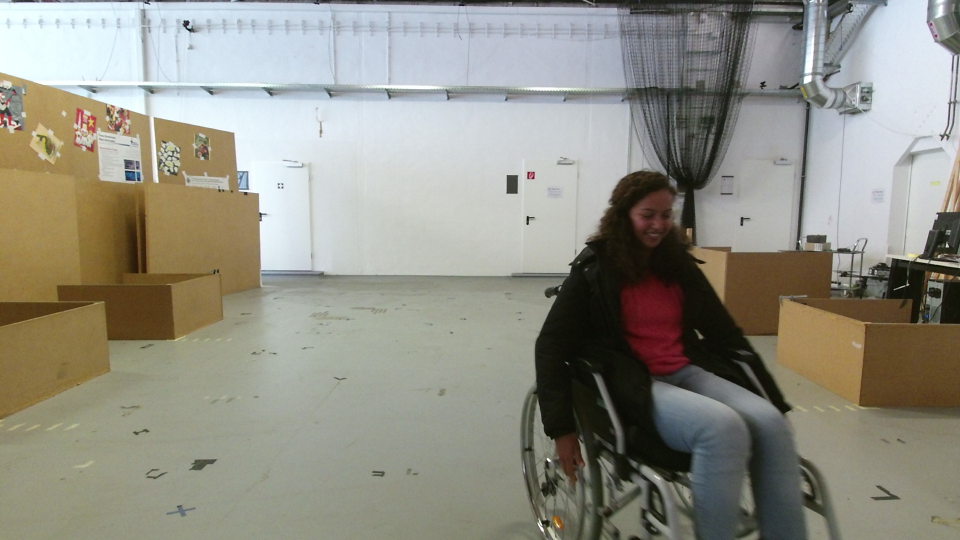wheelchair: (517, 170, 853, 540)
